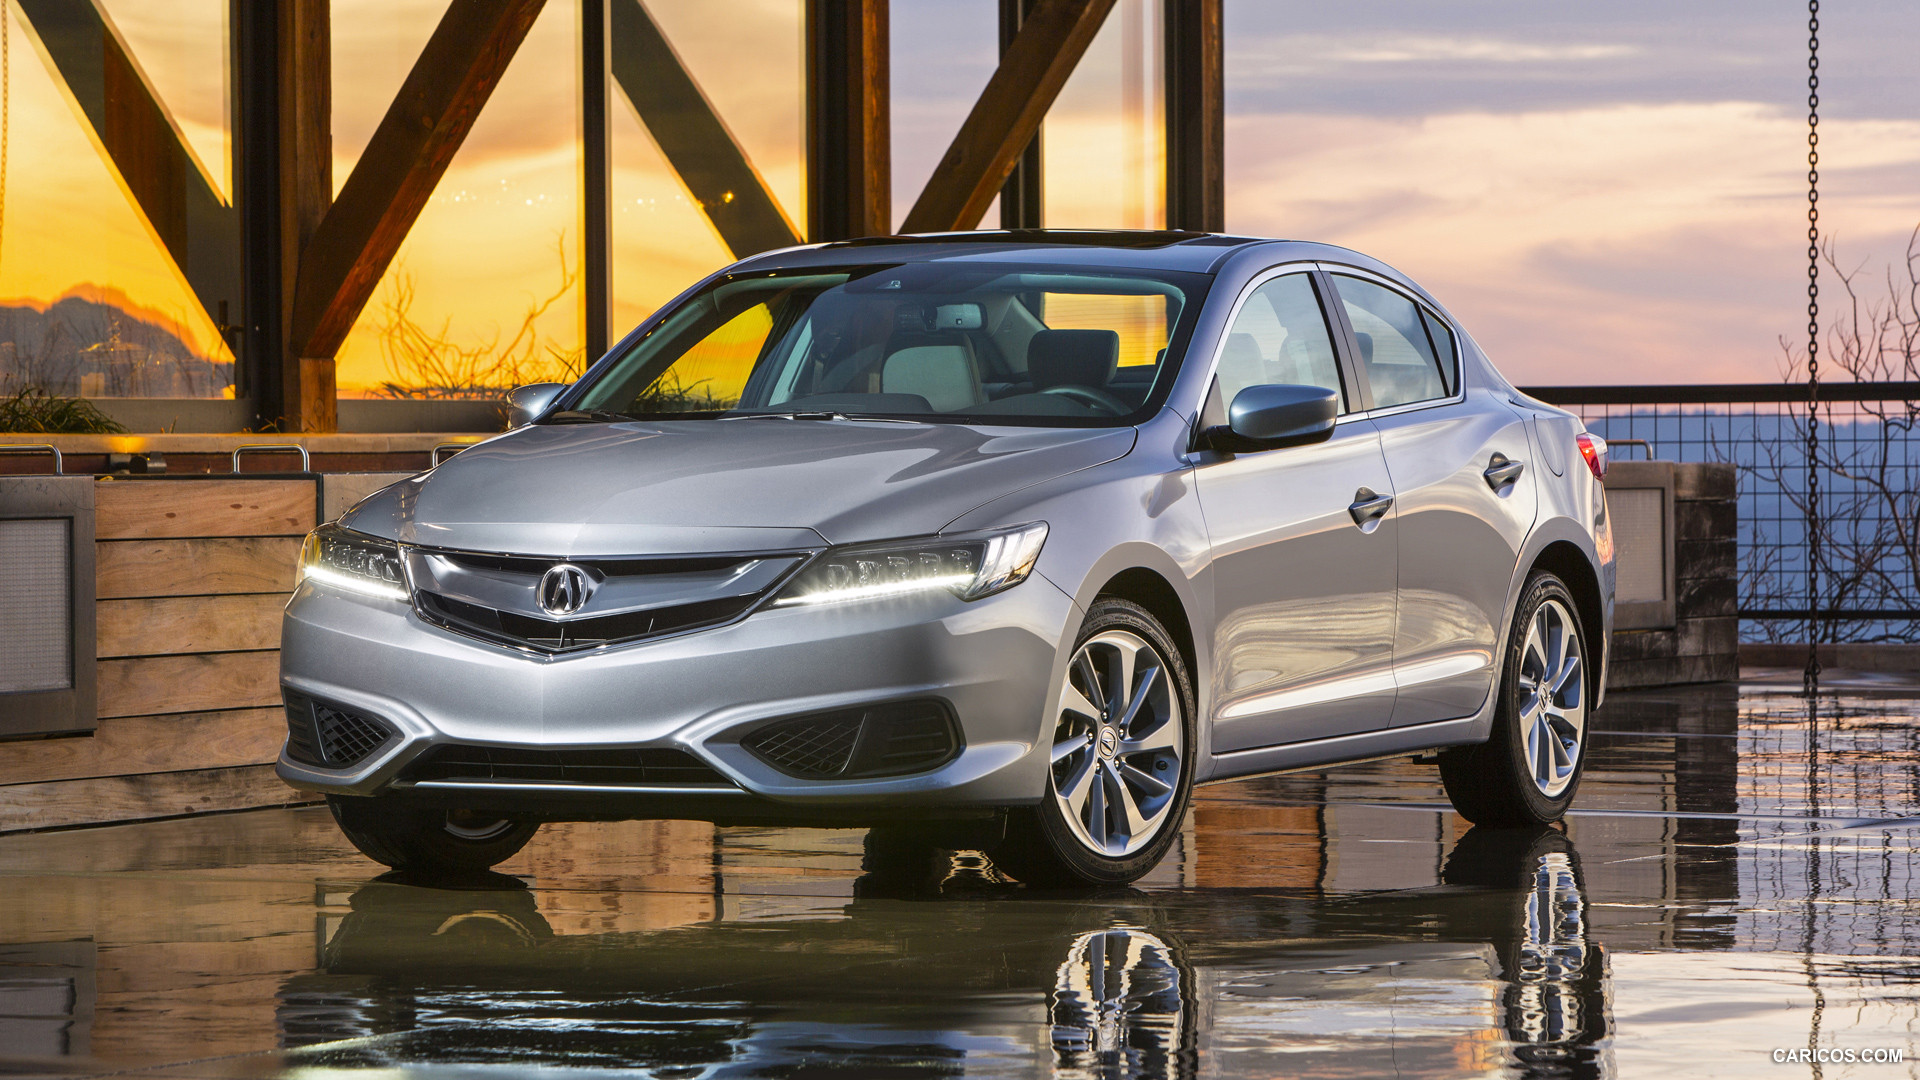Fog Lamp & Scope: (746, 696, 964, 782)
Front: (284, 438, 1120, 789)
Front Bumper: (280, 657, 1055, 796)
Grill: (405, 550, 779, 655)
Headlight: (764, 524, 1047, 607)
